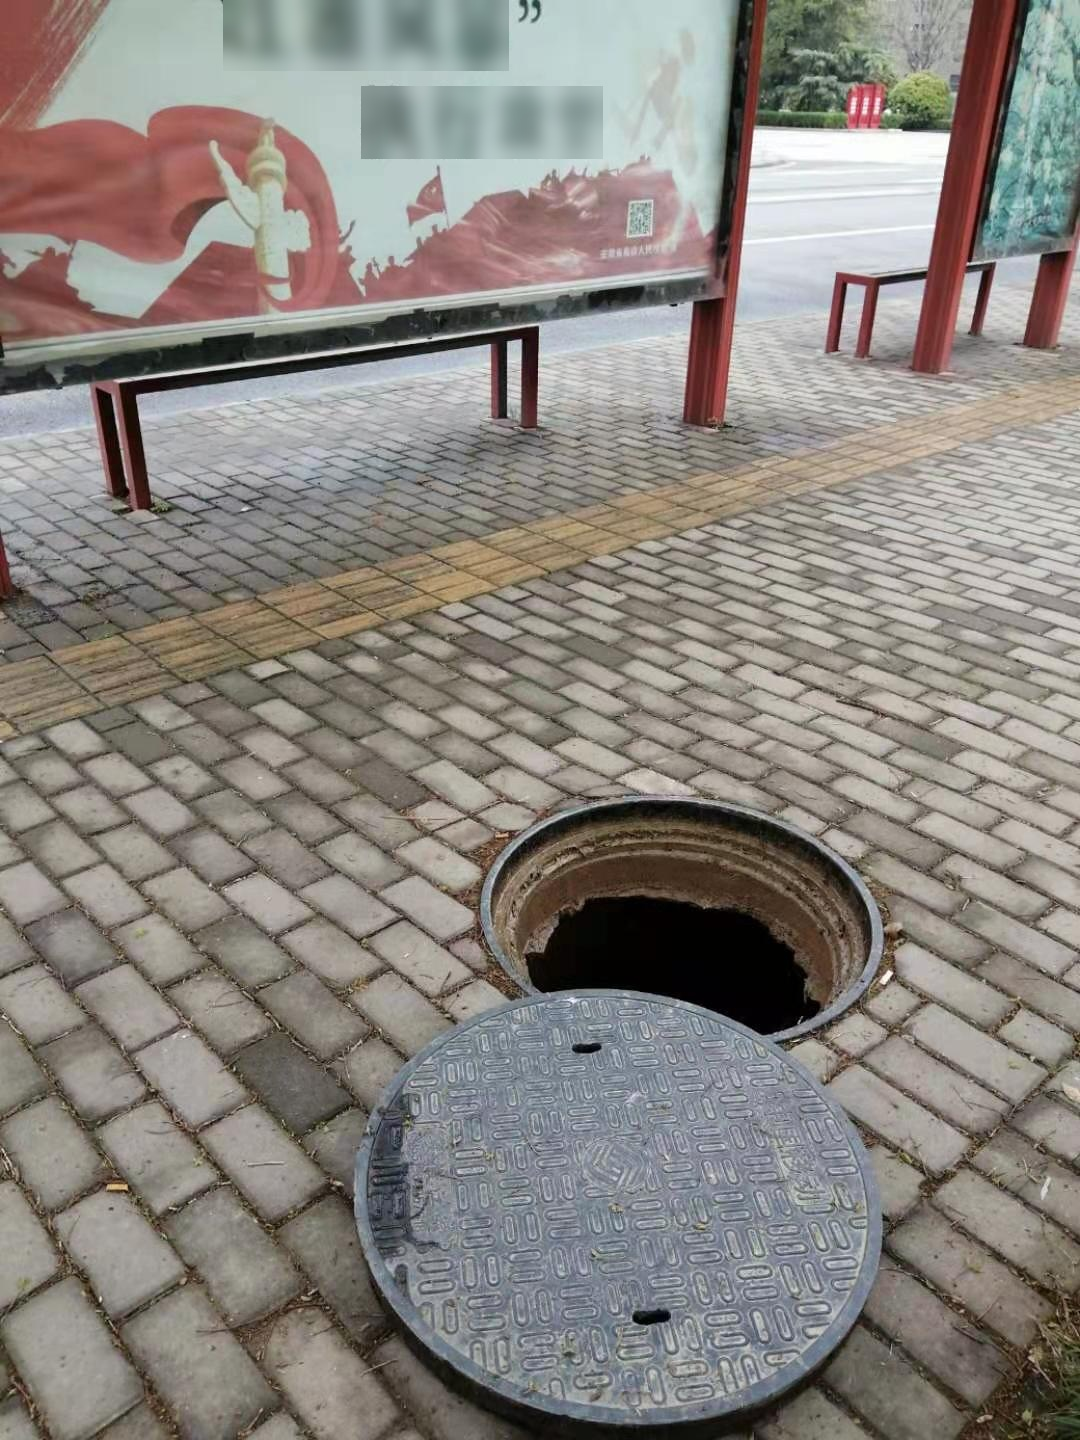uncovered: (349, 791, 888, 1424)
